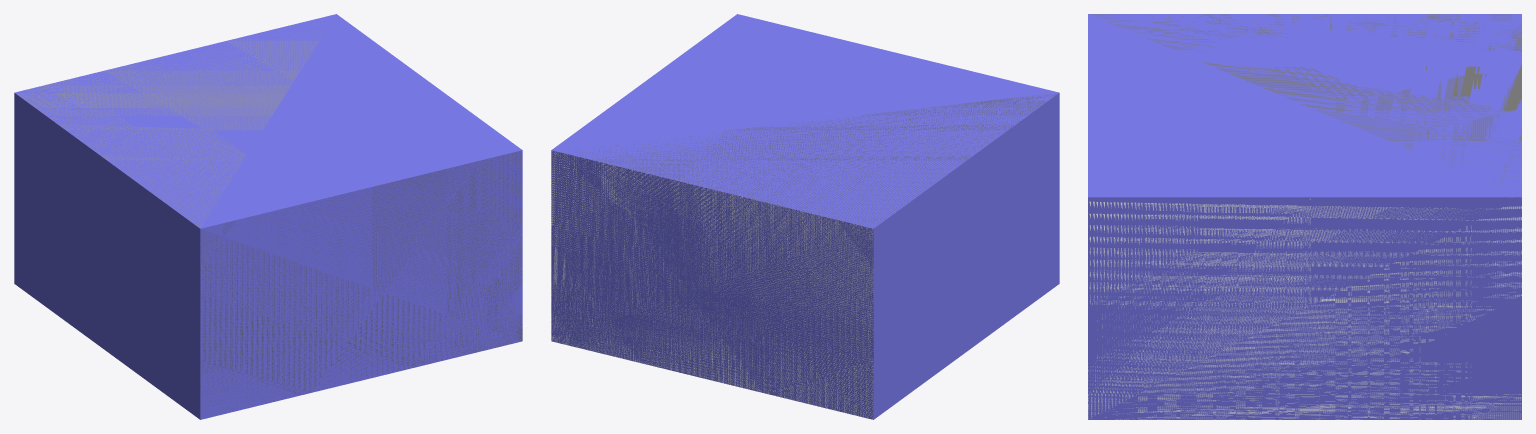
Rendered from SM_Dummy_Foundation.fbx.
3 renders of one model, left to right at view 1: azimuth 30°, elevation 25°; view 2: azimuth 150°, elevation 25°; view 3: azimuth 270°, elevation 25°, orthographic. The views are drawn at different scales.
Visible parts, largest first — view 1: SM_Dummy_Foundation, SM_Dummy_Foundation_ConvexHulls; view 2: SM_Dummy_Foundation, SM_Dummy_Foundation_ConvexHulls; view 3: SM_Dummy_Foundation, SM_Dummy_Foundation_ConvexHulls.
Boxes of the visible parts, <box> form: SM_Dummy_Foundation: <box>14,14,522,419</box>; SM_Dummy_Foundation_ConvexHulls: <box>15,24,522,410</box>; SM_Dummy_Foundation: <box>551,14,1059,419</box>; SM_Dummy_Foundation_ConvexHulls: <box>551,93,1058,419</box>; SM_Dummy_Foundation: <box>1088,14,1521,419</box>; SM_Dummy_Foundation_ConvexHulls: <box>1088,14,1521,419</box>.
Bounding box in the file's own units: 300 × 300 × 170.
2 materials, 1 textured.
